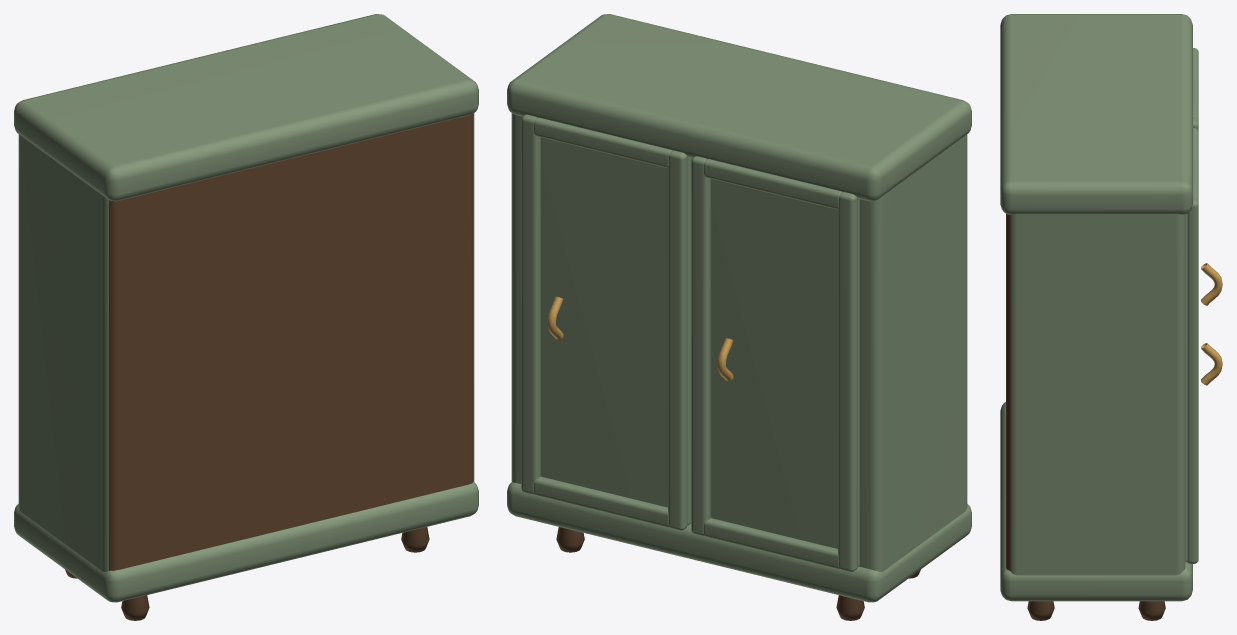
File: wardrobe.glb
3 views of the same model, side by side, from view 1: azimuth 30°, elevation 25°; view 2: azimuth 150°, elevation 25°; view 3: azimuth 270°, elevation 25° (orthographic). The views are drawn at different scales.
Parts seen in each view (by area): view 1: House_wardrobe; view 2: House_wardrobe; view 3: House_wardrobe.
Boxes of the visible parts, bbox=[...] form: House_wardrobe: bbox=[14, 14, 478, 620]; House_wardrobe: bbox=[507, 14, 971, 620]; House_wardrobe: bbox=[1000, 14, 1222, 620].
Bounding box in the file's own units: 1.12 × 1.35 × 0.6004.
